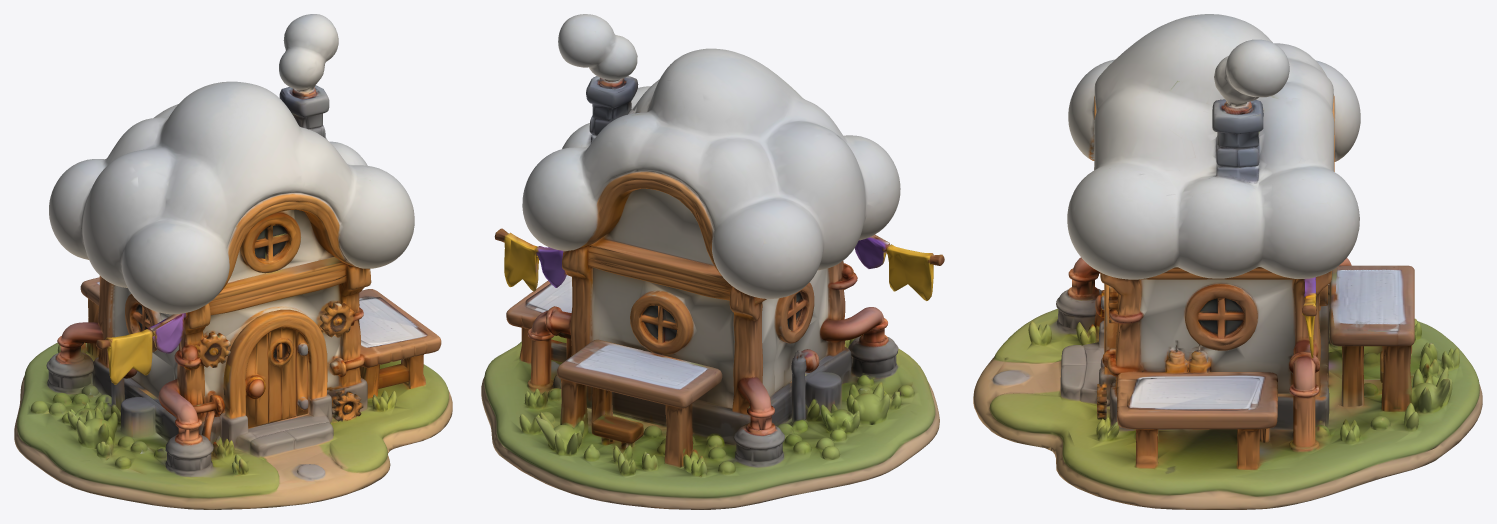
The model's file is cloud-core-workshop-2.glb.
3 renders of one model, left to right at view 1: azimuth 30°, elevation 25°; view 2: azimuth 150°, elevation 25°; view 3: azimuth 270°, elevation 25°, orthographic. The views are drawn at different scales.
Parts seen in each view (by area): view 1: node_0; view 2: node_0; view 3: node_0.
Part boxes in pixels (box(x1,y1,x2,y2)): node_0: box(14, 14, 452, 509); node_0: box(481, 14, 944, 509); node_0: box(973, 14, 1482, 509).
Size of the model in its own units: 0.8768 by 0.791 by 0.8788.
1 material, 1 textured.
